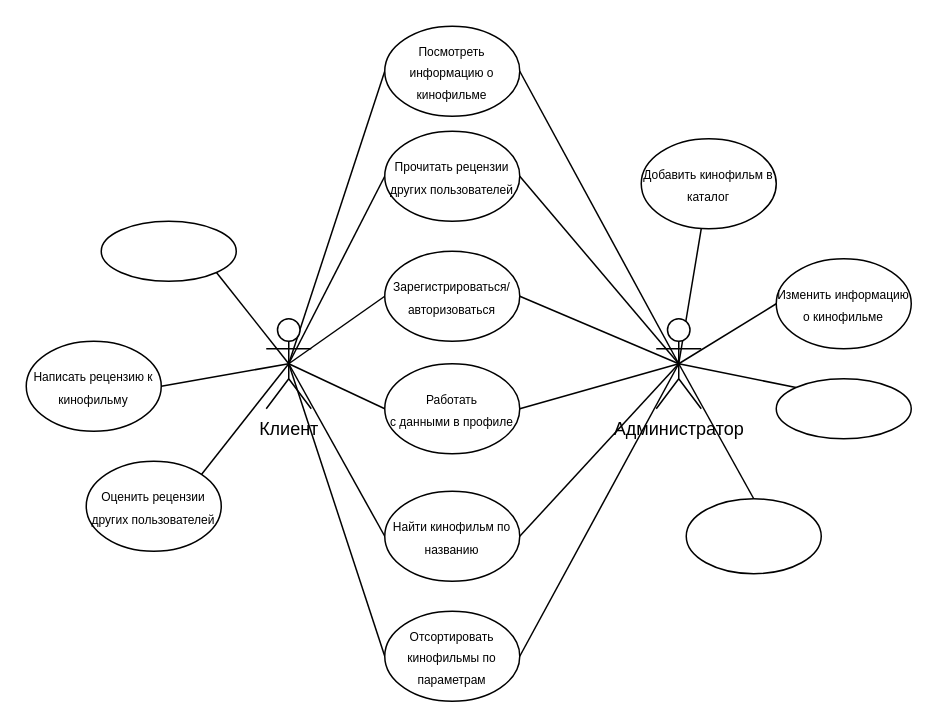
The diagram is 938 pixels wide and 728 high, and some of its shapes have lost their labels. The shapes that lost their labels are listed below. From the top down, each one's centre as x and y in pixels, then its label:
At (168,250): "Оценить кинофильм".
At (843,408): "Удалить кинофильм".
At (753,535): "Удалить рецензию клиента".
